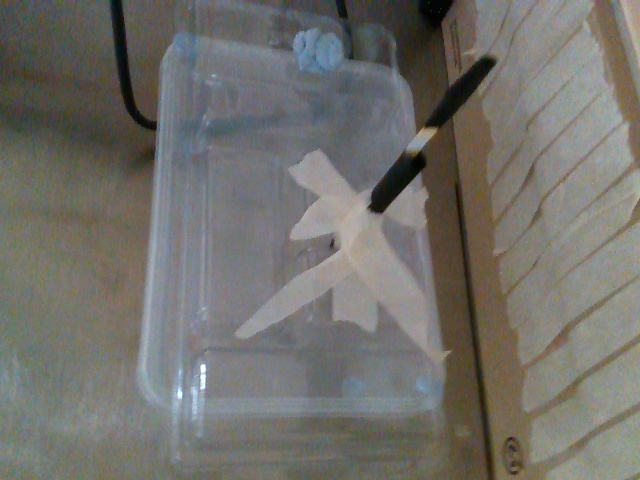test_strip: (408, 52, 498, 157)
